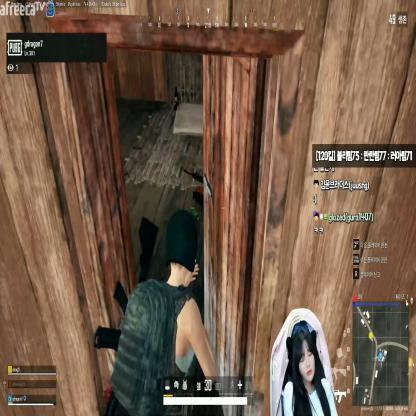streamer: (283, 325, 339, 416)
